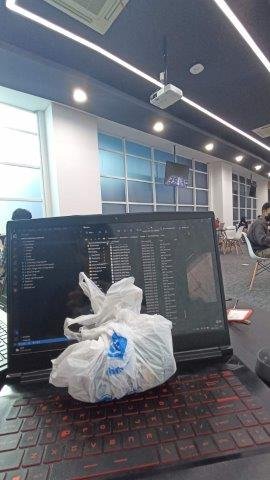plastik: (50, 273, 176, 402)
